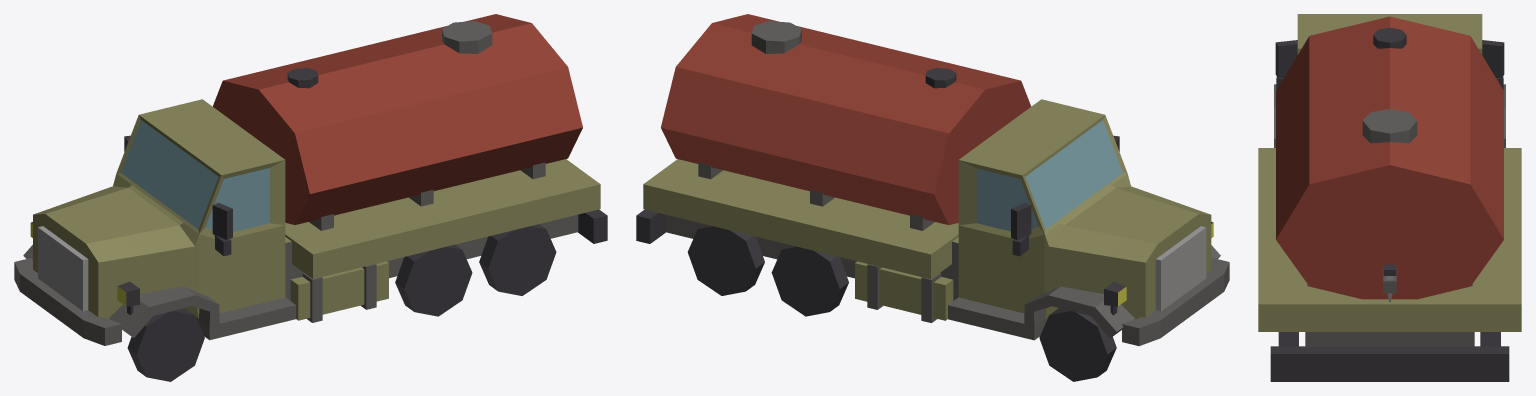
The model's file is fuel_truck.glb.
The picture shows the model from 3 angles, left to right: view 1: azimuth 30°, elevation 25°; view 2: azimuth 150°, elevation 25°; view 3: azimuth 270°, elevation 25°; orthographic projection. The views are drawn at different scales.
Parts seen in each view (by area): view 1: Cube.000; view 2: Cube.000; view 3: Cube.000.
Boxes of the visible parts, bbox=[...] form: Cube.000: bbox=[14, 14, 607, 381]; Cube.000: bbox=[636, 14, 1229, 381]; Cube.000: bbox=[1258, 14, 1521, 381].
Bounding box in the file's own units: 10.89 × 4.74 × 4.42.
1 material, 1 textured.
